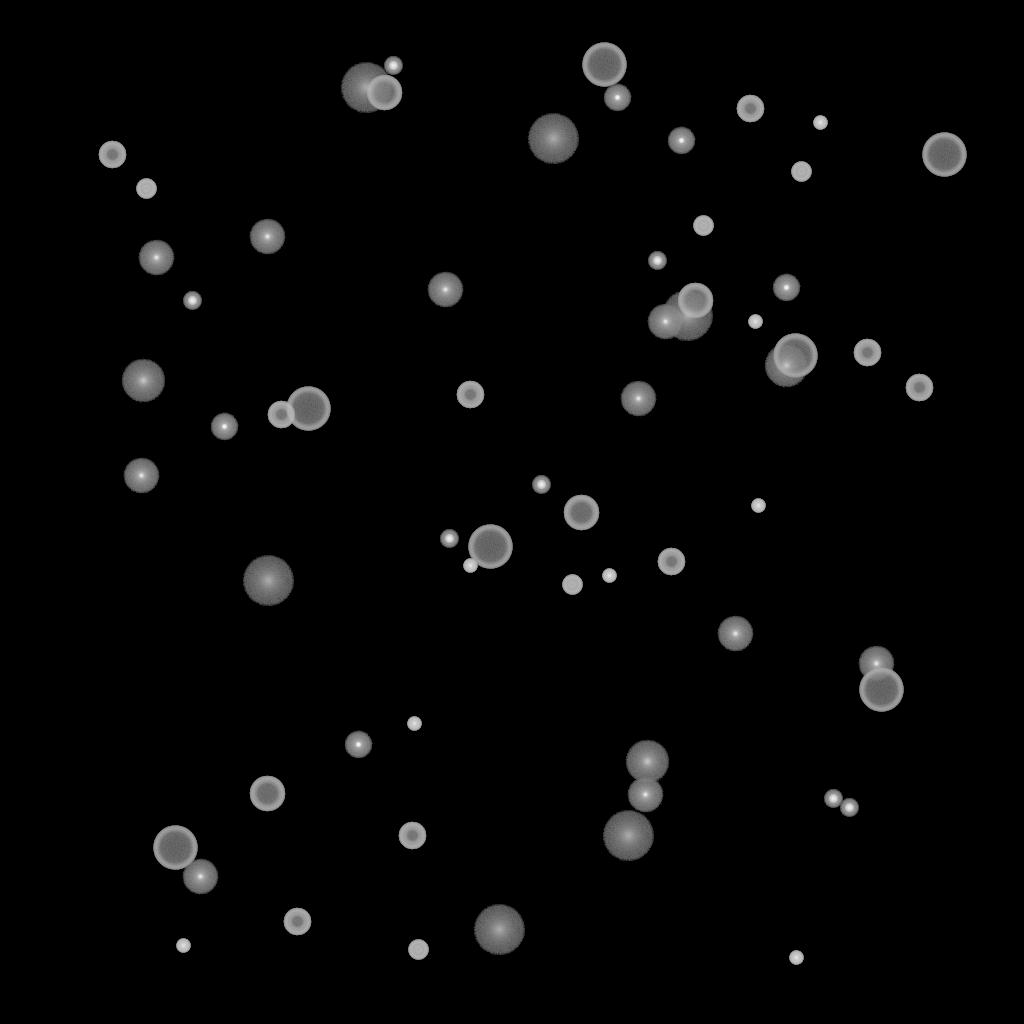depth:-10: (344, 731, 372, 759), (603, 84, 631, 112), (210, 413, 238, 441), (772, 274, 800, 302), (667, 127, 695, 155)
depth:-20: (440, 530, 458, 548), (384, 57, 402, 75), (183, 292, 201, 310), (824, 790, 842, 808), (840, 799, 858, 817), (532, 476, 550, 494), (648, 252, 666, 270)
depth:-30: (463, 559, 477, 573), (813, 116, 827, 130), (407, 717, 421, 731), (789, 951, 803, 965), (748, 315, 762, 329), (176, 939, 190, 953), (602, 569, 616, 583), (751, 499, 765, 513)
depth:-40: (408, 940, 428, 960), (693, 216, 713, 236), (562, 575, 582, 595), (136, 179, 156, 199), (791, 162, 811, 182)
depth:-50: (98, 141, 126, 169), (456, 381, 484, 409), (905, 374, 933, 402), (283, 908, 311, 936), (398, 822, 426, 850), (736, 95, 764, 123), (657, 548, 685, 576), (853, 339, 881, 367), (267, 401, 295, 429)
depth:-60: (563, 495, 599, 531), (677, 283, 713, 319), (366, 75, 402, 111), (249, 776, 285, 812)
depth:-70: (582, 43, 626, 87), (468, 525, 512, 569), (922, 133, 966, 177), (773, 334, 817, 378), (859, 668, 903, 712), (286, 387, 330, 431), (153, 826, 197, 870)
depth:0: (123, 458, 159, 494), (620, 381, 656, 417), (627, 777, 663, 813), (717, 616, 753, 652), (647, 304, 683, 340), (138, 240, 174, 276), (427, 272, 463, 308), (182, 859, 218, 895), (249, 219, 285, 255), (858, 646, 894, 682)
depth:10: (764, 344, 808, 388), (625, 740, 669, 784), (121, 359, 165, 403)
depth:20: (340, 63, 392, 113), (242, 556, 294, 606), (661, 291, 713, 341), (527, 114, 579, 164), (602, 811, 654, 861), (473, 905, 525, 955)
